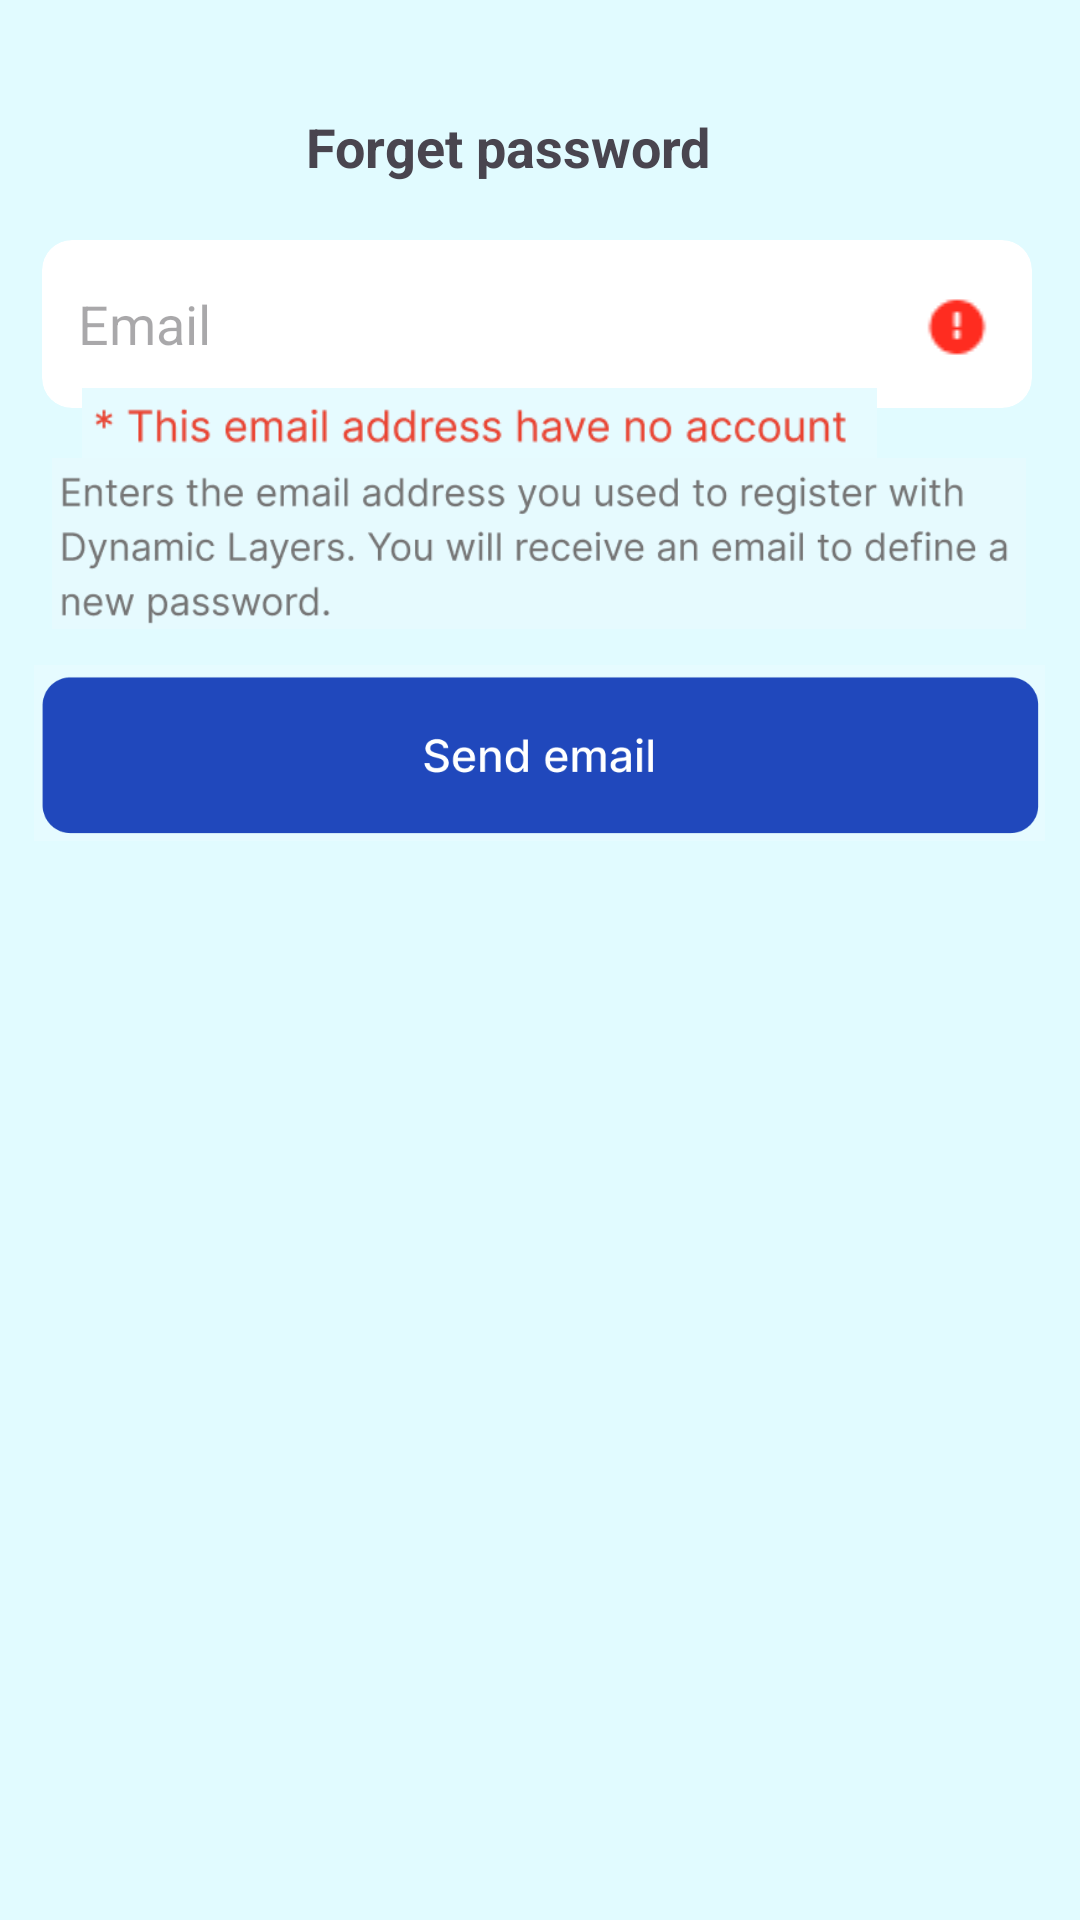

Named icons in this screenshot (1080w x 1920h) and their centers, (x,y):
login alert circle: (957,327)
